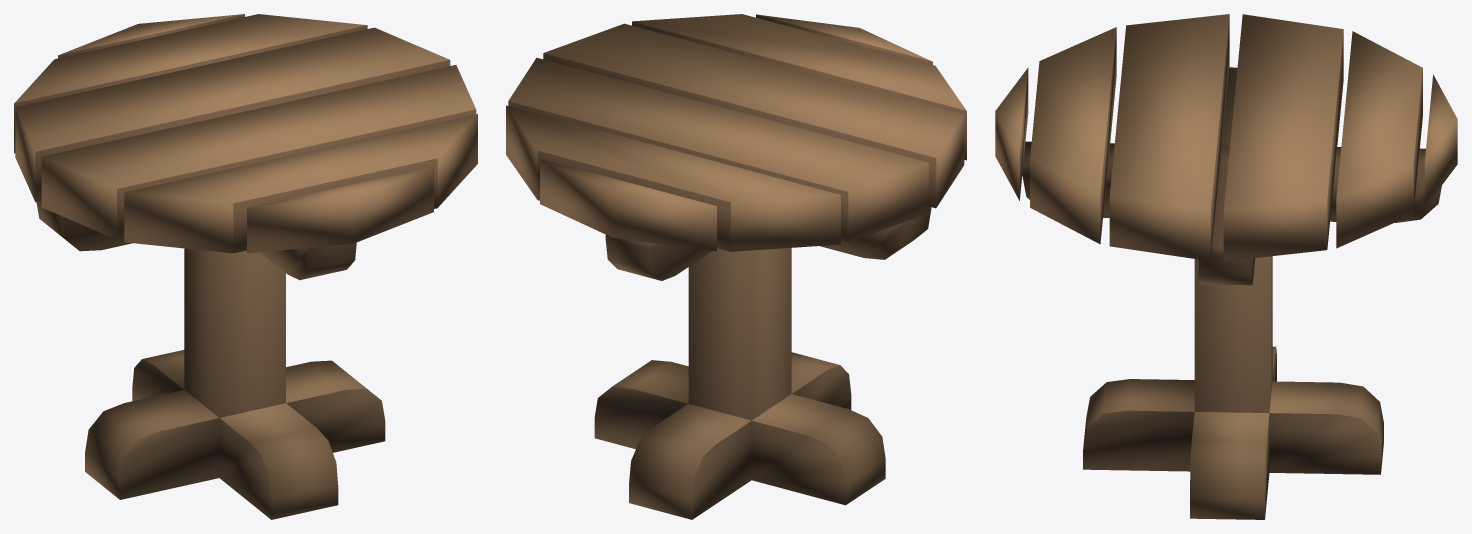
Rendered from cutepack2023table 1.fbx.
3 renders of one model, left to right at view 1: azimuth 30°, elevation 25°; view 2: azimuth 150°, elevation 25°; view 3: azimuth 270°, elevation 25°, orthographic.
Parts seen in each view (by area): view 1: Cube.012; view 2: Cube.012; view 3: Cube.012.
Boxes of the visible parts, left/top/right/bottom form: Cube.012: left=14, top=14, right=477, bottom=519; Cube.012: left=506, top=14, right=966, bottom=519; Cube.012: left=995, top=14, right=1457, bottom=519.
Bounding box in the file's own units: 158 × 130 × 157.
